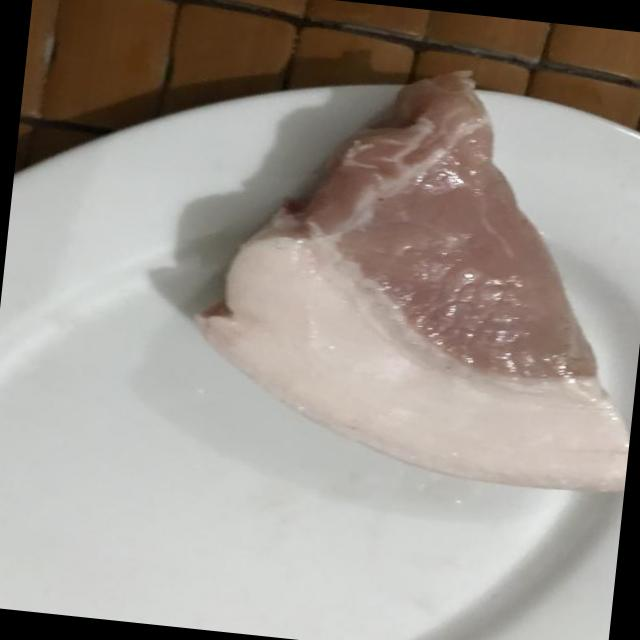chicken: (190, 43, 640, 506)
